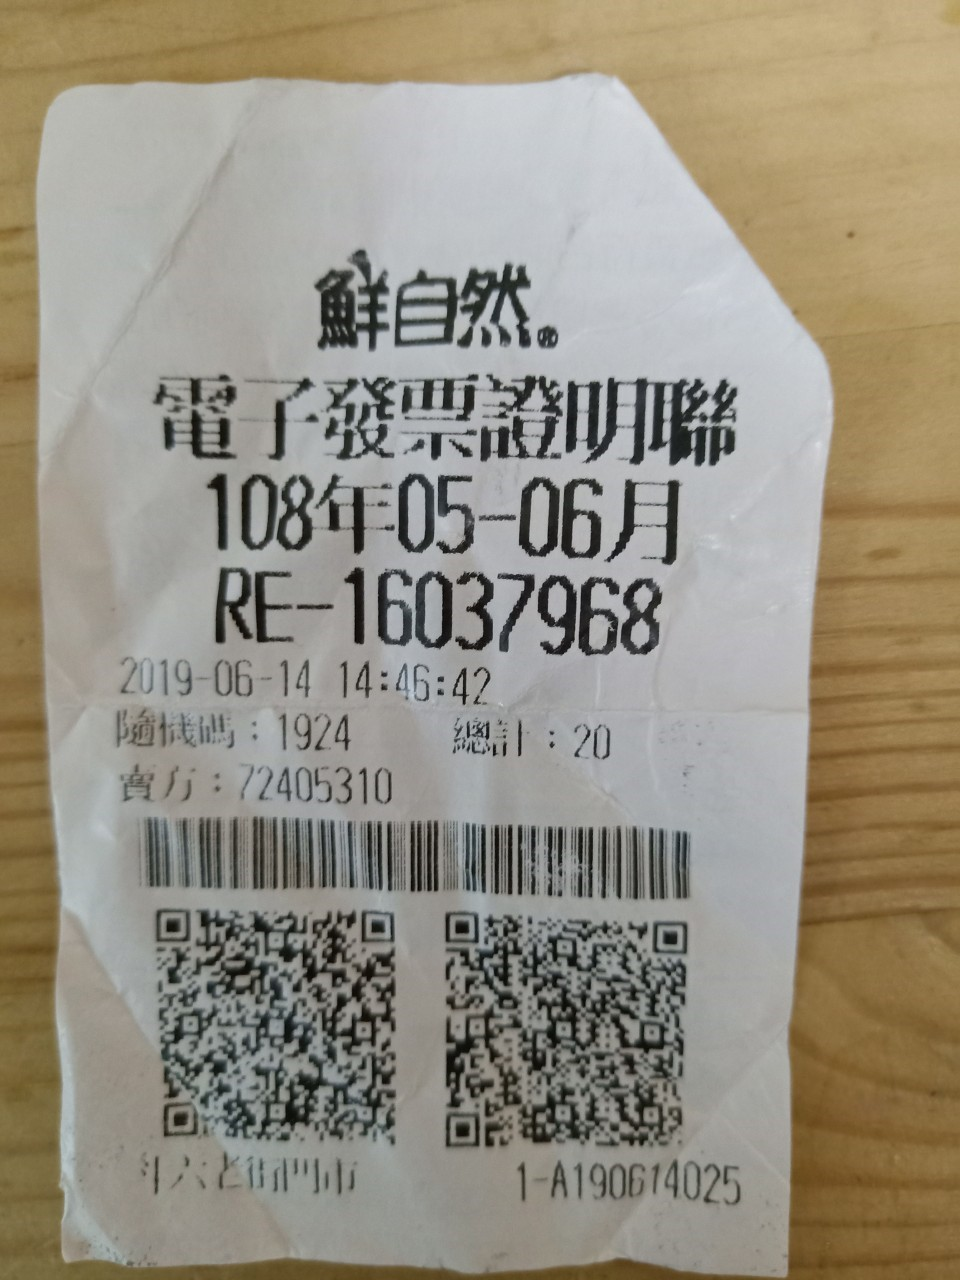Date_New: (199, 467, 683, 563)
Number_New: (340, 563, 663, 658)
